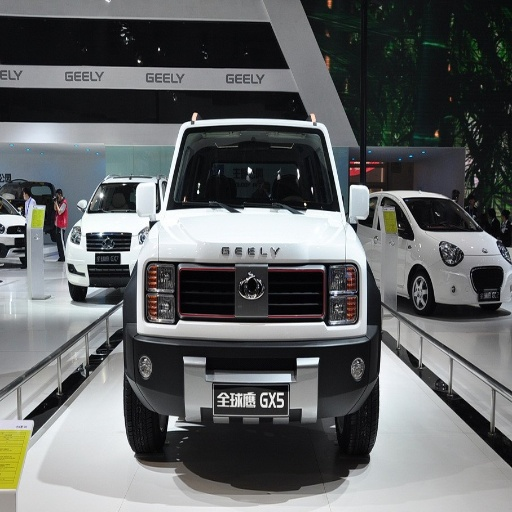front_bumper: (140, 260, 379, 504), (445, 273, 509, 315)
hood: (157, 209, 347, 264)
